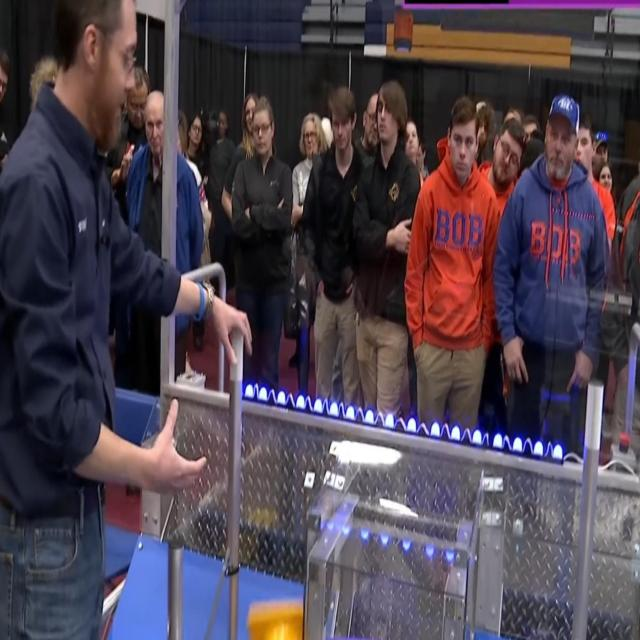frc_cone: (244, 592, 314, 640)
